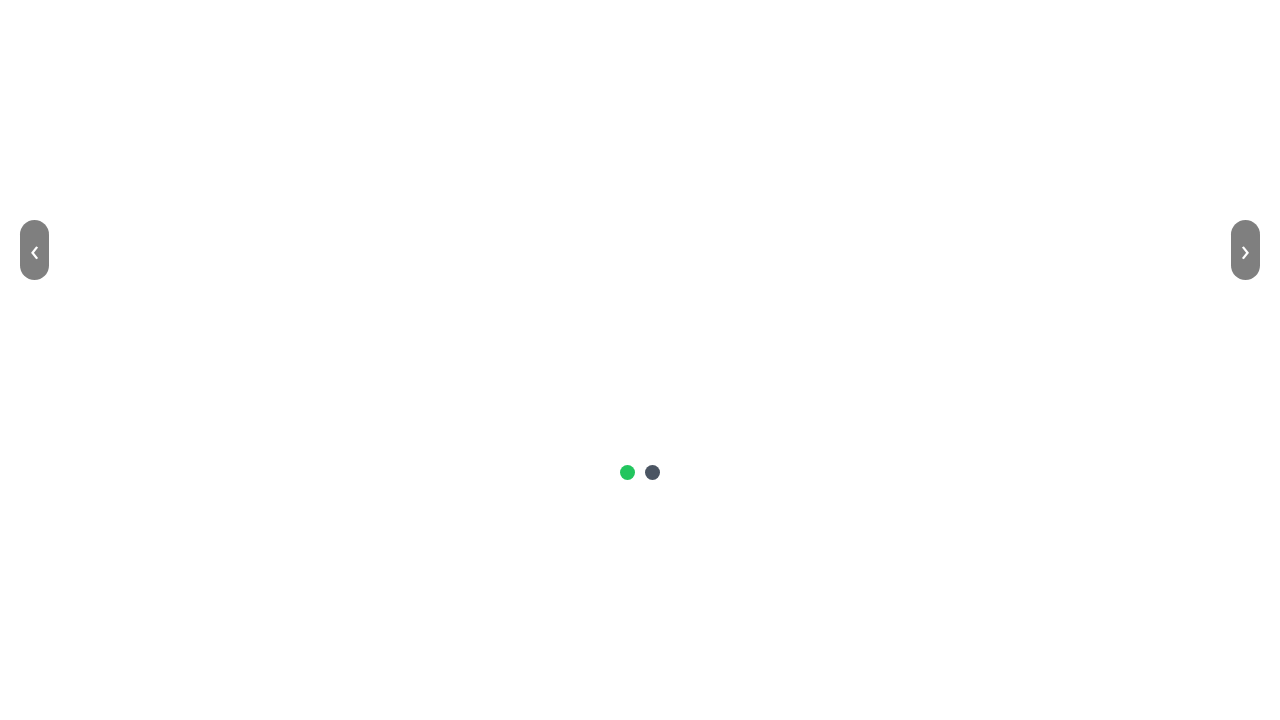
Test: Carousel › navigates to the previous slide
This screenshot has width=1280, height=720.
What coordinates should you click on to do the following:
click the button named "Next Slide"
I would click on:
 (1245, 250)
Its box is [1231, 220, 1260, 280].
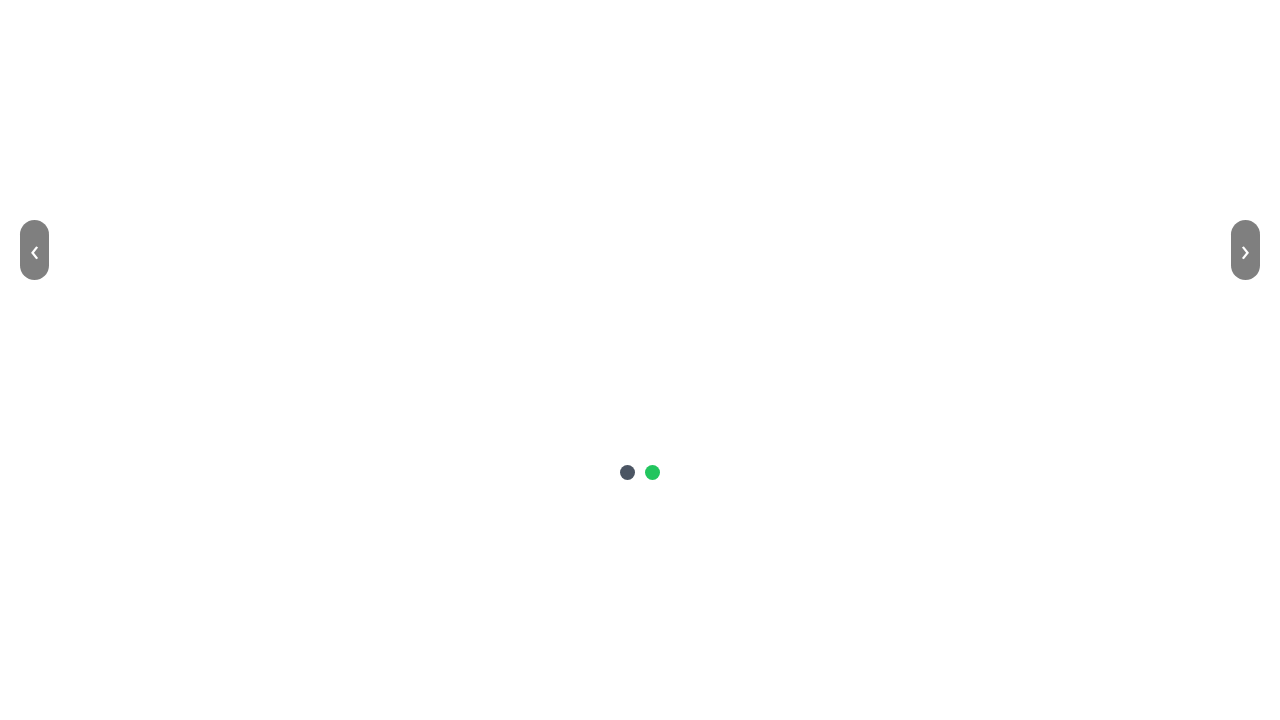
What coordinates should you click on to do the following:
click the button named "Previous Slide"
I would click on:
 (35, 250)
Its box is [20, 220, 49, 280].
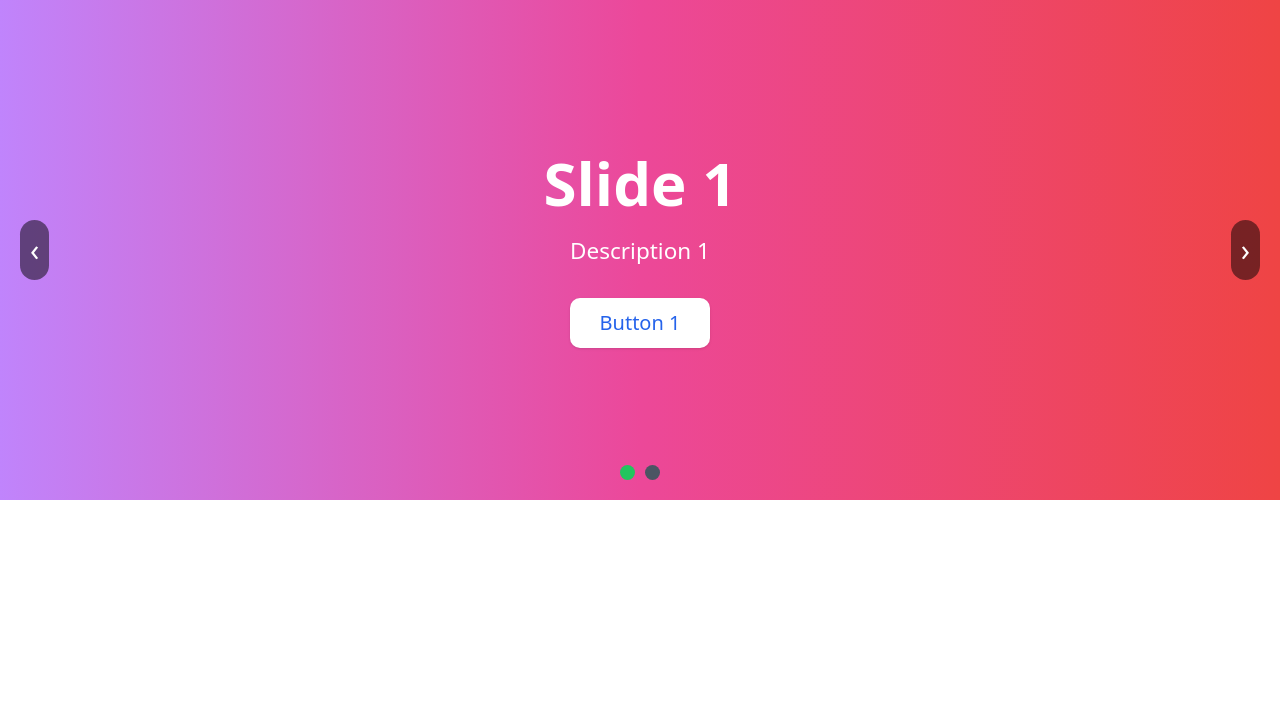
Expected: the heading "Slide 1" is shown, [544, 152, 736, 212]
Expected: the text "Description 1" is shown, [570, 232, 710, 268]
